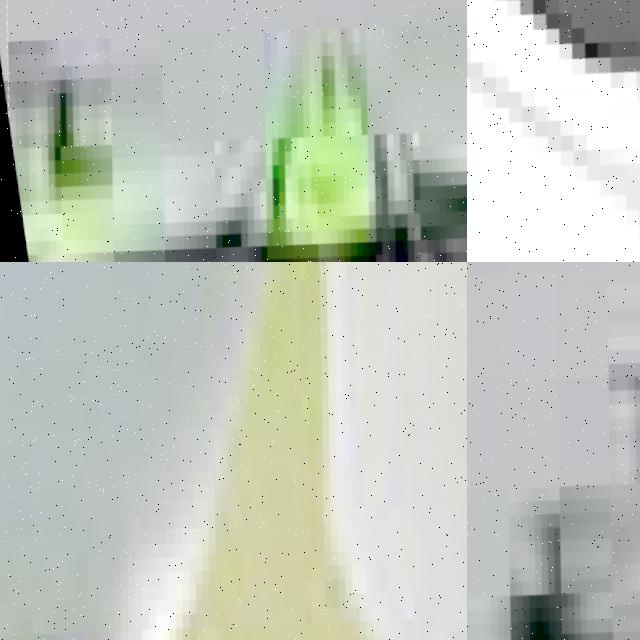0: (0, 0, 467, 262), (467, 262, 640, 640)
drone: (0, 262, 467, 640), (467, 0, 640, 262)
